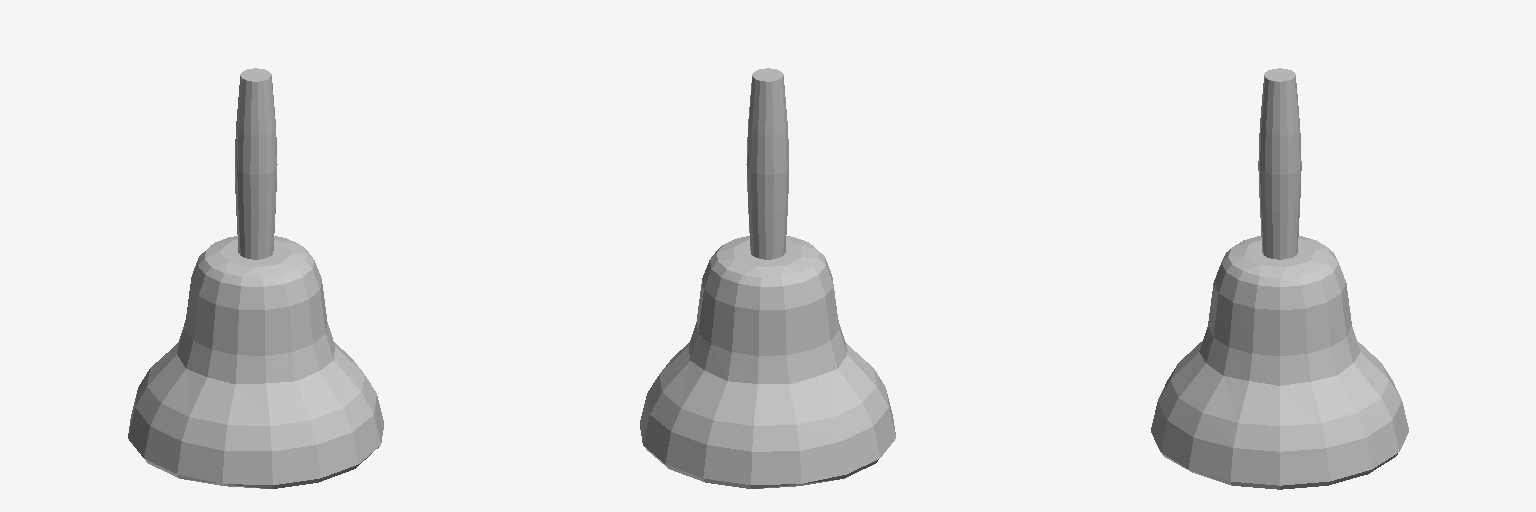
Rendered from turn_bell.obj.
The picture shows the model from 3 angles: view 1: azimuth 30°, elevation 25°; view 2: azimuth 150°, elevation 25°; view 3: azimuth 270°, elevation 25°; orthographic projection.
Parts seen in each view (by area): view 1: Cylinder.001, Cylinder; view 2: Cylinder.001, Cylinder; view 3: Cylinder.001, Cylinder.
Boxes of the visible parts, box(x1,y1,x2,y2) form: Cylinder.001: box(128, 236, 383, 488); Cylinder: box(235, 68, 277, 259); Cylinder.001: box(640, 236, 895, 488); Cylinder: box(746, 68, 788, 259); Cylinder.001: box(1151, 236, 1408, 489); Cylinder: box(1258, 68, 1301, 259).
Bounding box in the file's own units: 2 × 3.08 × 2.